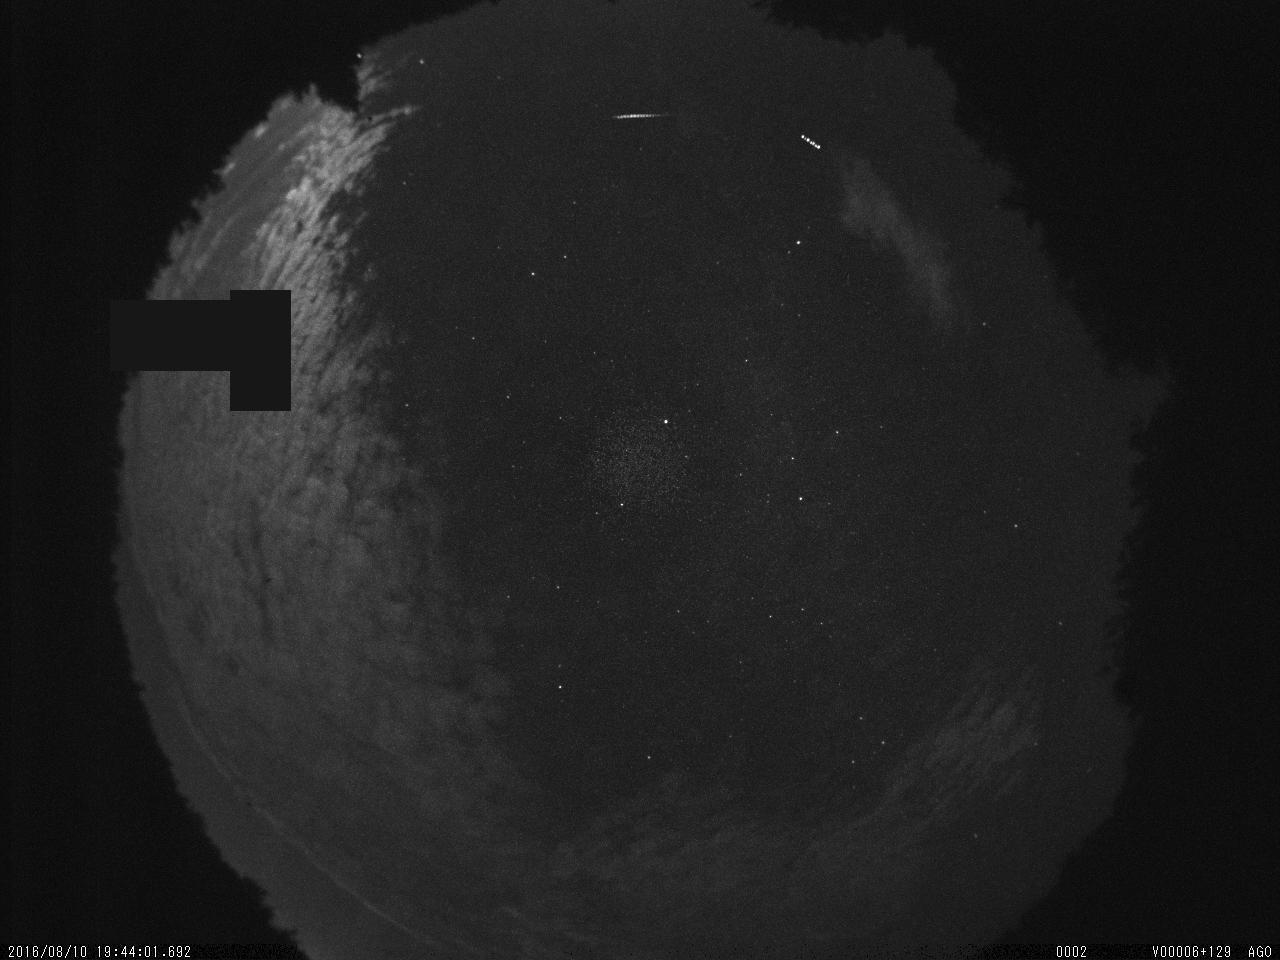meteor: (611, 105, 687, 128)
satelite: (796, 125, 831, 155)
